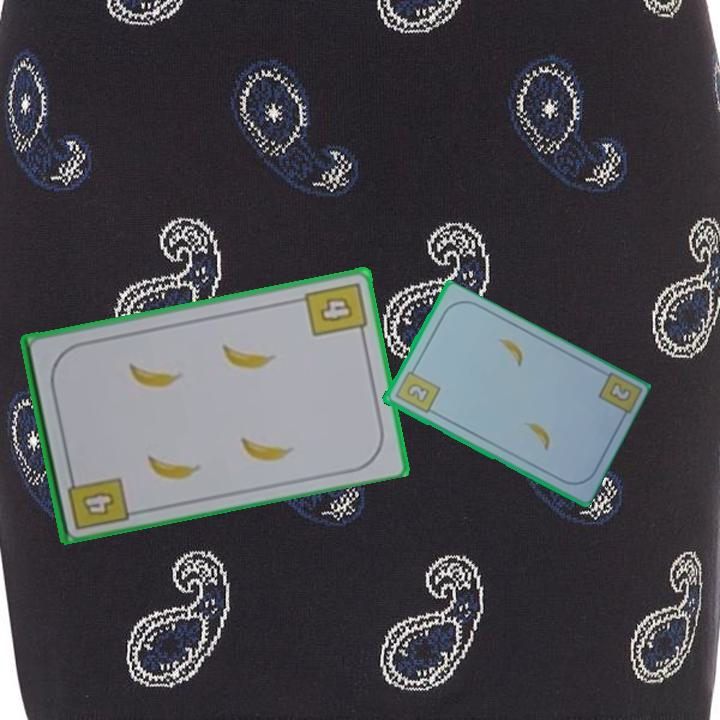2b: (391, 363, 442, 416), (605, 378, 634, 405)
4b: (63, 467, 131, 533), (301, 278, 370, 340)
